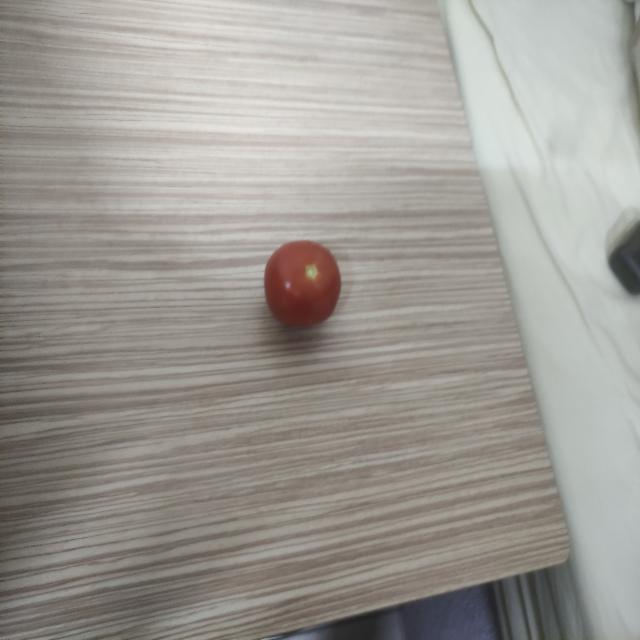kirmizi: (254, 229, 348, 341)
